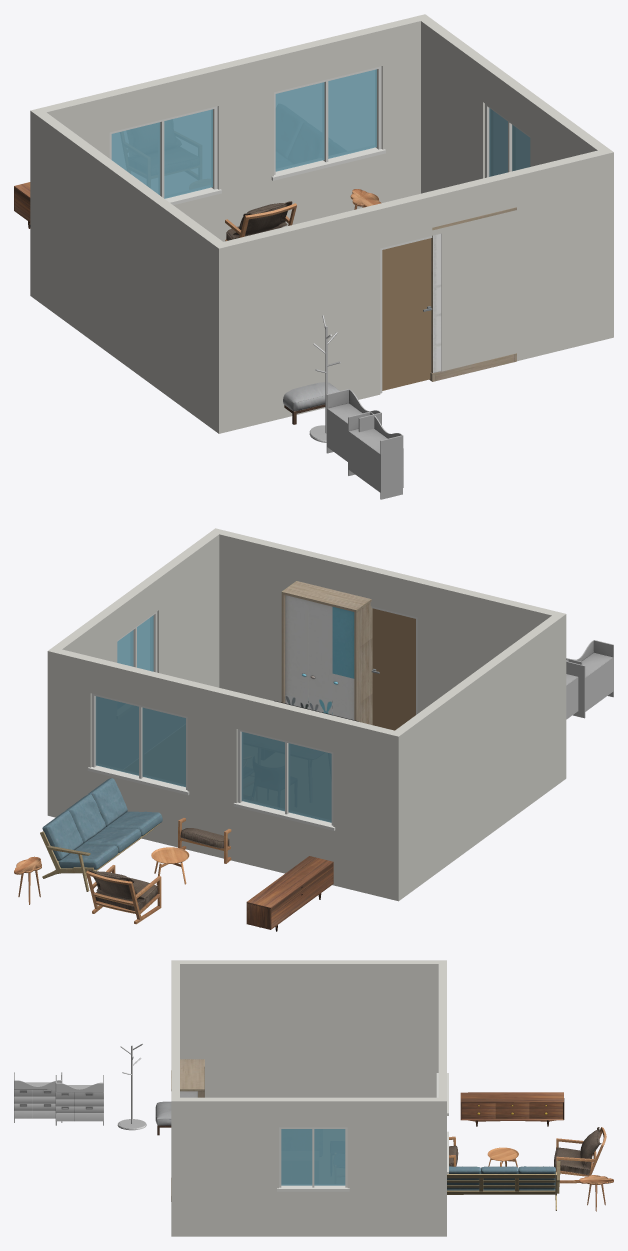
File: diffuscene.glb
3 renders of one model, top to bottom at view 1: azimuth 30°, elevation 25°; view 2: azimuth 150°, elevation 25°; view 3: azimuth 270°, elevation 25°, orthographic. The views are drawn at different scales.
Parts seen in each view (by area): view 1: wall|scenesmith_007__R00|0, wall|scenesmith_007__R00|2, wall|scenesmith_007__R00|1, wall|scenesmith_007__R00|3, wall|scenesmith_007__R00|1 Window 0 | glazing, wall|scenesmith_007__R00|0 Door 0 | wood leaf, raw_model.004, wall|scenesmith_007__R00|1 Window 0 | jamb, raw_model.012, wall|scenesmith_007__R00|3 Window 0 | glazing, solid_001, raw_model.009 (+2 smaller); view 2: wall|scenesmith_007__R00|1, wall|scenesmith_007__R00|2, wall|scenesmith_007__R00|0, wall|scenesmith_007__R00|3, wall|scenesmith_007__R00|1 Window 0 | glazing, raw_model.012, raw_model.001, wall|scenesmith_007__R00|0 Door 0 | wood leaf, wall|scenesmith_007__R00|1 Window 0 | jamb, solid_001, raw_model, raw_model.004 (+3 smaller); view 3: wall|scenesmith_007__R00|2, wall|scenesmith_007__R00|3, wall|scenesmith_007__R00|3 Window 0 | glazing, raw_model.004, raw_model.001, raw_model, wall|scenesmith_007__R00|0, wall|scenesmith_007__R00|1, solid_001, wall|scenesmith_007__R00|3 Window 0 | jamb, raw_model.012, raw_model.003 (+3 smaller).
Part boxes in pixels (x1=…): wall|scenesmith_007__R00|0: x1=213, y1=148, x2=613, y2=431; wall|scenesmith_007__R00|2: x1=30, y1=108, x2=229, y2=433; wall|scenesmith_007__R00|1: x1=30, y1=16, x2=420, y2=299; wall|scenesmith_007__R00|3: x1=415, y1=14, x2=613, y2=339; wall|scenesmith_007__R00|1 Window 0 | glazing: x1=111, y1=69, x2=376, y2=198; wall|scenesmith_007__R00|0 Door 0 | wood leaf: x1=382, y1=238, x2=431, y2=390; raw_model.004: x1=326, y1=389, x2=403, y2=499; wall|scenesmith_007__R00|1 Window 0 | jamb: x1=109, y1=66, x2=385, y2=205; raw_model.012: x1=429, y1=207, x2=516, y2=381; wall|scenesmith_007__R00|3 Window 0 | glazing: x1=489, y1=108, x2=530, y2=176; solid_001: x1=225, y1=201, x2=296, y2=241; raw_model.009: x1=283, y1=382, x2=339, y2=424; wall|scenesmith_007__R00|1: x1=56, y1=649, x2=403, y2=900; wall|scenesmith_007__R00|2: x1=389, y1=614, x2=566, y2=901; wall|scenesmith_007__R00|0: x1=210, y1=528, x2=565, y2=781; wall|scenesmith_007__R00|3: x1=47, y1=532, x2=219, y2=817; wall|scenesmith_007__R00|1 Window 0 | glazing: x1=95, y1=696, x2=331, y2=822; raw_model.012: x1=281, y1=581, x2=372, y2=724; raw_model.001: x1=40, y1=778, x2=162, y2=891; wall|scenesmith_007__R00|0 Door 0 | wood leaf: x1=372, y1=608, x2=415, y2=730; wall|scenesmith_007__R00|1 Window 0 | jamb: x1=87, y1=693, x2=335, y2=830; solid_001: x1=86, y1=818, x2=231, y2=924; raw_model: x1=246, y1=856, x2=333, y2=931; raw_model.004: x1=566, y1=640, x2=613, y2=719; wall|scenesmith_007__R00|2: x1=180, y1=960, x2=446, y2=1097; wall|scenesmith_007__R00|3: x1=180, y1=1097, x2=446, y2=1236; wall|scenesmith_007__R00|3 Window 0 | glazing: x1=281, y1=1129, x2=345, y2=1185; raw_model.004: x1=14, y1=1072, x2=103, y2=1125; raw_model.001: x1=447, y1=1161, x2=560, y2=1210; raw_model: x1=460, y1=1092, x2=564, y2=1126; wall|scenesmith_007__R00|0: x1=171, y1=960, x2=179, y2=1236; wall|scenesmith_007__R00|1: x1=438, y1=964, x2=446, y2=1236; solid_001: x1=449, y1=1127, x2=606, y2=1183; wall|scenesmith_007__R00|3 Window 0 | jamb: x1=277, y1=1127, x2=349, y2=1191; raw_model.012: x1=171, y1=1059, x2=204, y2=1201; raw_model.003: x1=117, y1=1043, x2=146, y2=1130.
Size of the model in its own units: 5.83 by 2.62 by 10.45.
20 materials, 14 textured.
